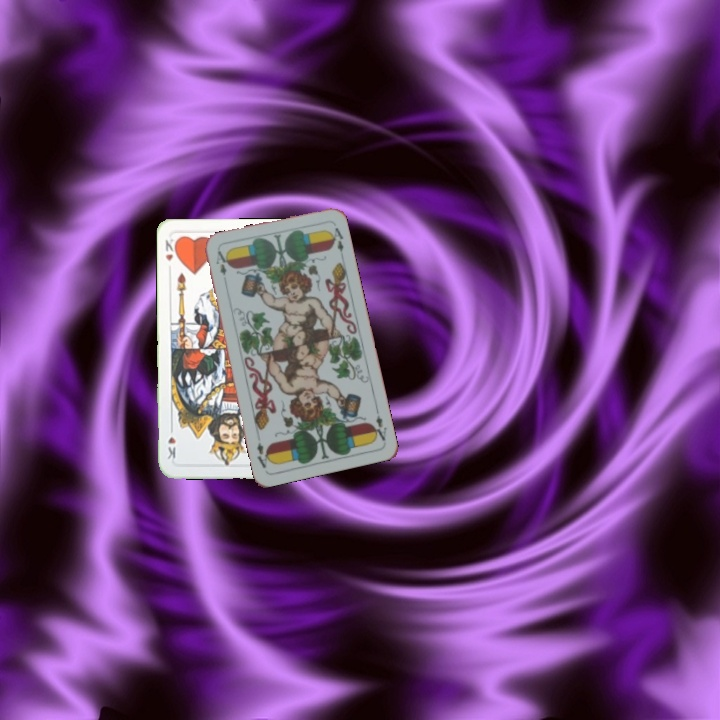EA: (368, 404, 390, 443), (212, 246, 230, 287)
HK: (161, 234, 179, 264)
